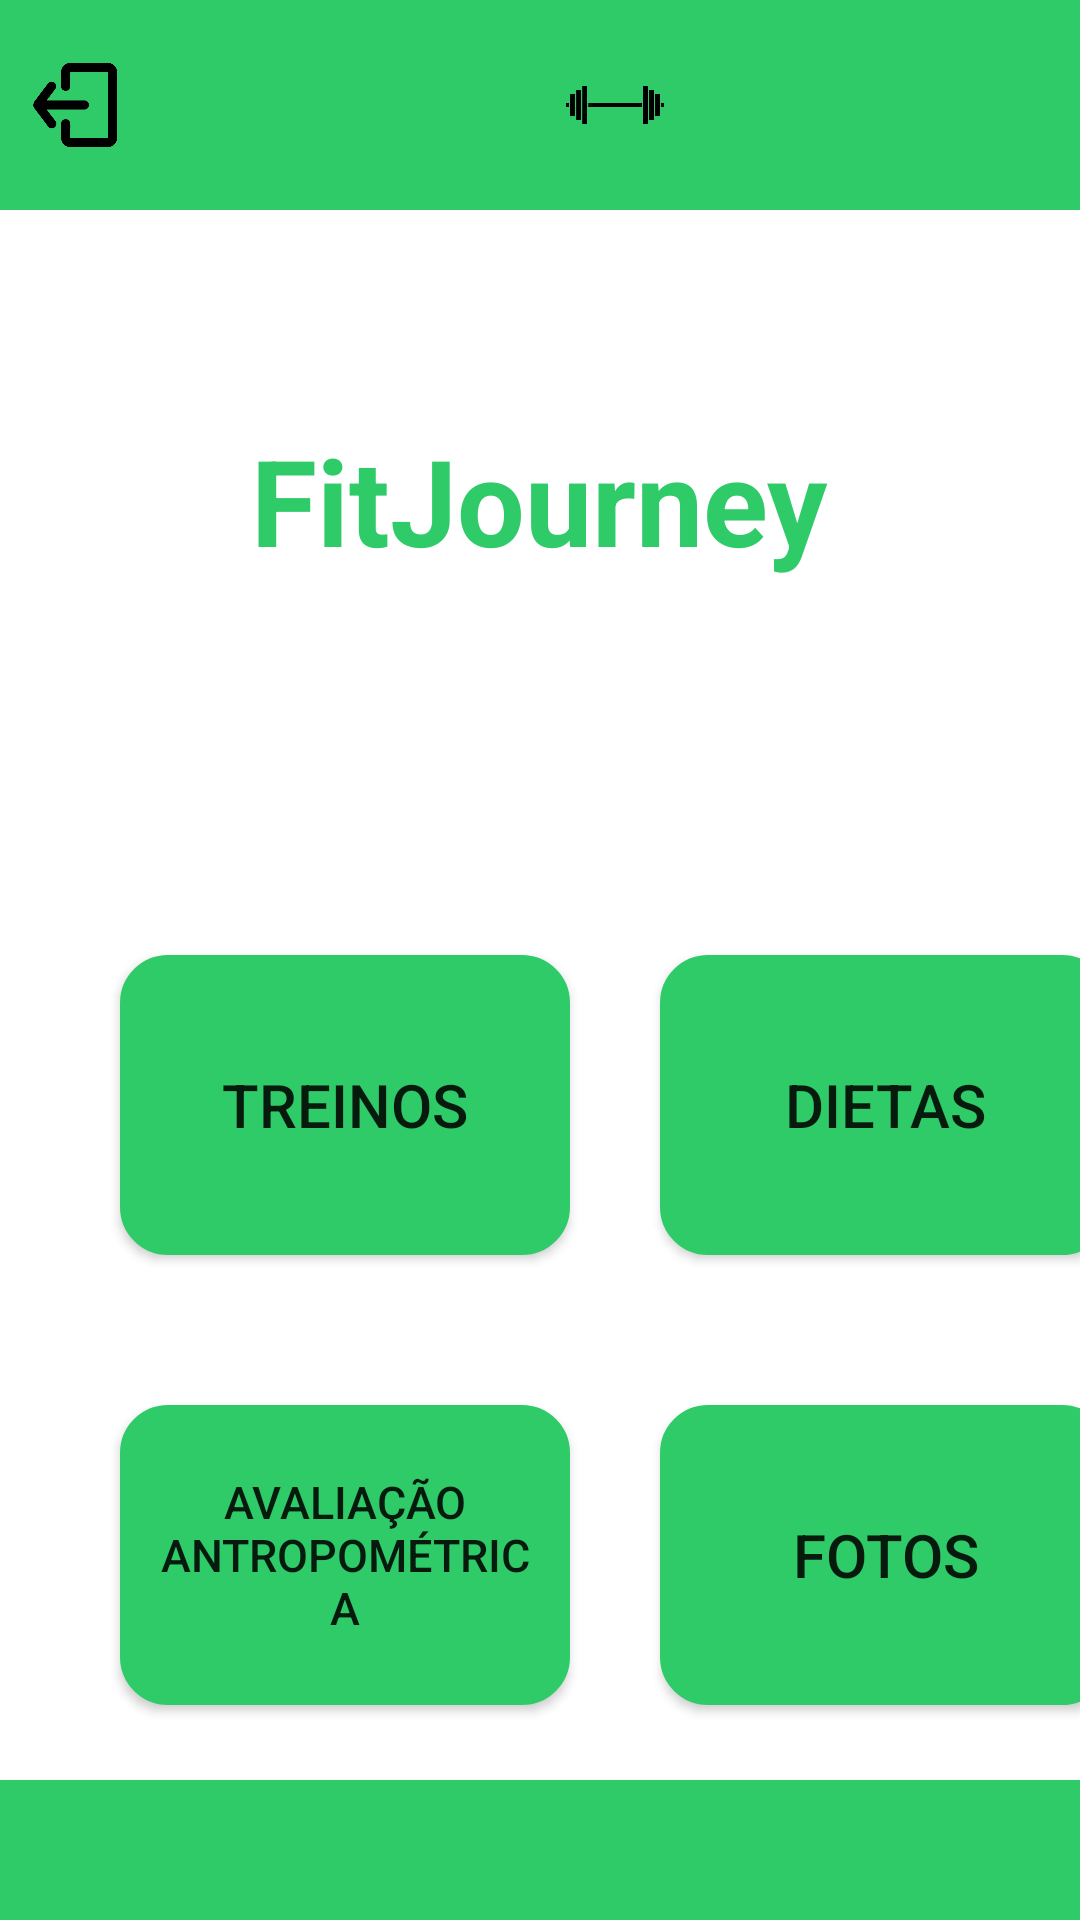

Screen size 1080w x 1920h. Icon name, then its box in pixels as [x1=x1, y1=y1, x2=x2, y2=y2]:
sair preta: [x1=33, y1=63, x2=117, y2=147]
